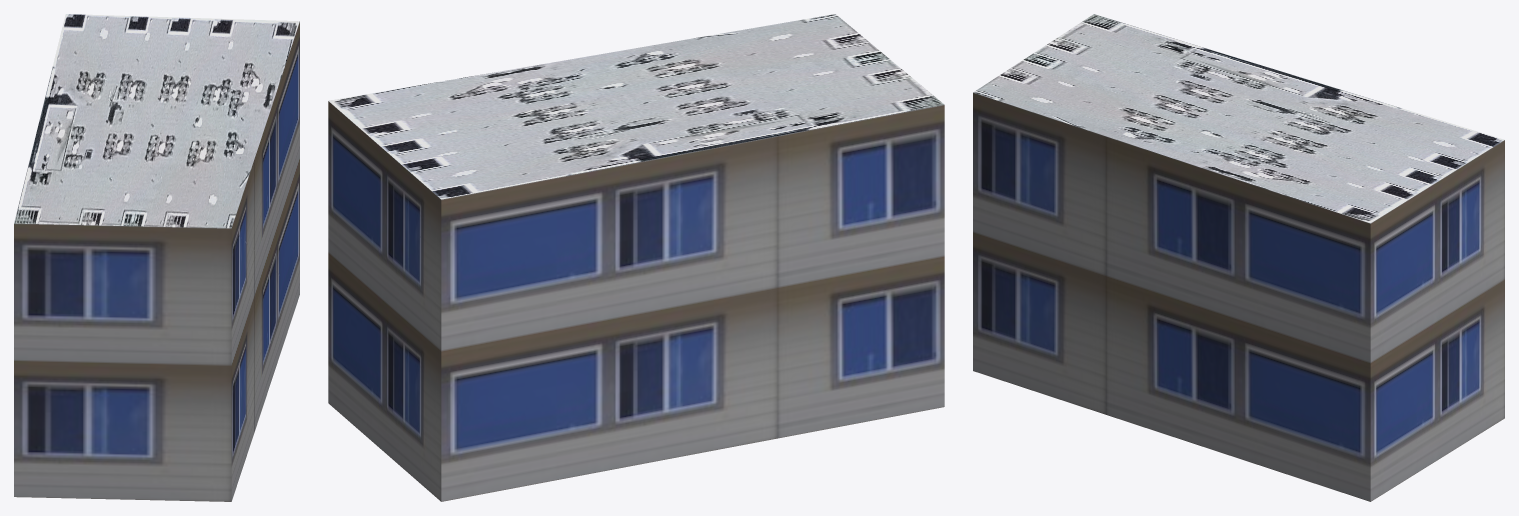
Rendered from ResTex__3817.fbx.
The picture shows the model from 3 angles, left to right: view 1: azimuth 30°, elevation 25°; view 2: azimuth 150°, elevation 25°; view 3: azimuth 270°, elevation 25°; orthographic projection. The views are drawn at different scales.
Visible parts, largest first — view 1: CityEngineMaterial_23_m, CityEngineMaterial_m; view 2: CityEngineMaterial_23_m, CityEngineMaterial_m; view 3: CityEngineMaterial_23_m, CityEngineMaterial_m.
Part boxes in pixels (<box>): CityEngineMaterial_23_m: <box>14,22,299,501</box>; CityEngineMaterial_m: <box>14,14,299,228</box>; CityEngineMaterial_23_m: <box>328,101,944,501</box>; CityEngineMaterial_m: <box>329,14,943,199</box>; CityEngineMaterial_23_m: <box>973,92,1504,501</box>; CityEngineMaterial_m: <box>973,14,1504,223</box>.
Bounding box in the file's own units: 9.68 × 6 × 10.39.
Materials: 2 (2 with a texture image).
